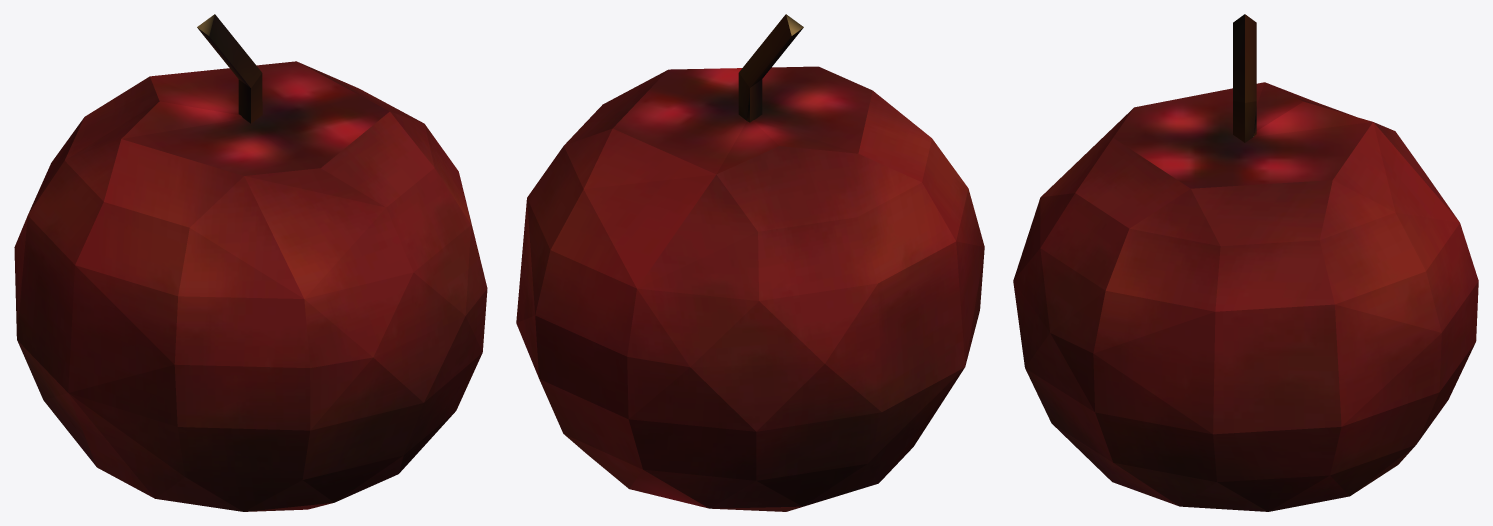
File: ITFO_APPLE.glb
The picture shows the model from 3 angles, left to right: view 1: azimuth 30°, elevation 25°; view 2: azimuth 150°, elevation 25°; view 3: azimuth 270°, elevation 25°; orthographic projection. The views are drawn at different scales.
Parts seen in each view (by area): view 1: ITFO_APPLE; view 2: ITFO_APPLE; view 3: ITFO_APPLE.
Boxes of the visible parts, <box> form: ITFO_APPLE: <box>14,14,487,511</box>; ITFO_APPLE: <box>516,14,984,511</box>; ITFO_APPLE: <box>1013,14,1478,511</box>.
Size of the model in its own units: 0.1306 by 0.1447 by 0.1387.
Materials: 2 (2 with a texture image).
